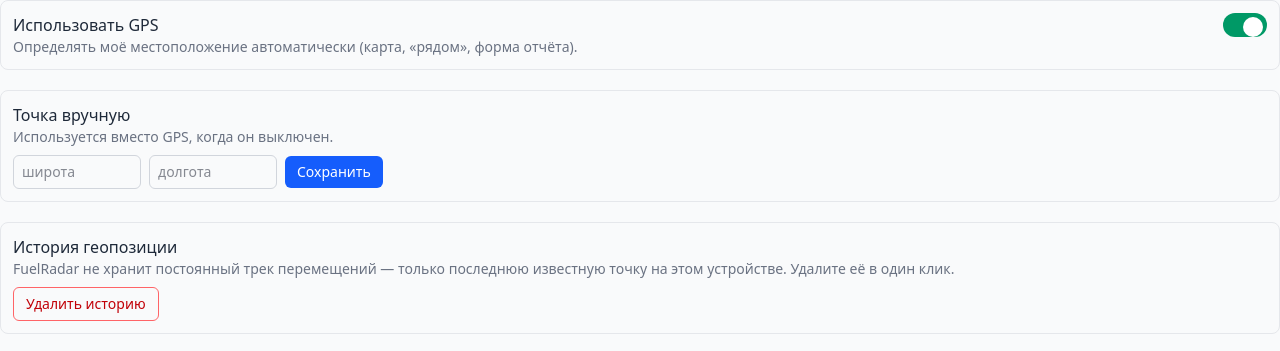
Test: PrivacySettings (R24) › выключение GPS сохраняется в localStorage
The image size is (1280, 351).
Click the switch named "Использовать GPS": click(1245, 25) [1223,13,1267,37]
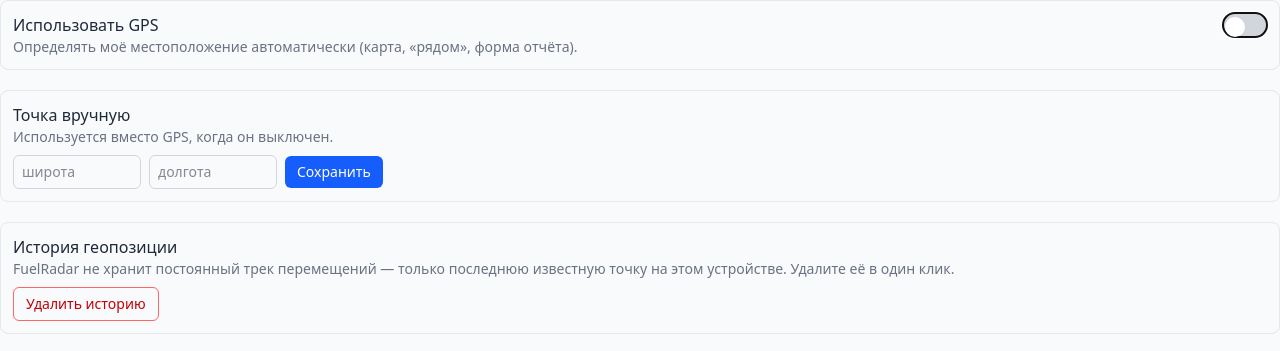
Expected: the switch named "Использовать GPS" is not checked, [1223,13,1267,37]
